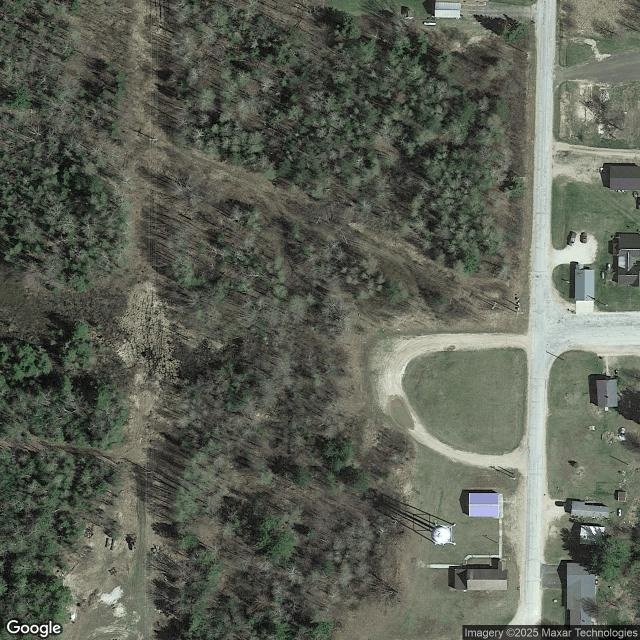Propane: (424, 22, 436, 26), (601, 271, 605, 280), (628, 400, 632, 409), (607, 264, 611, 272), (618, 509, 622, 517)
